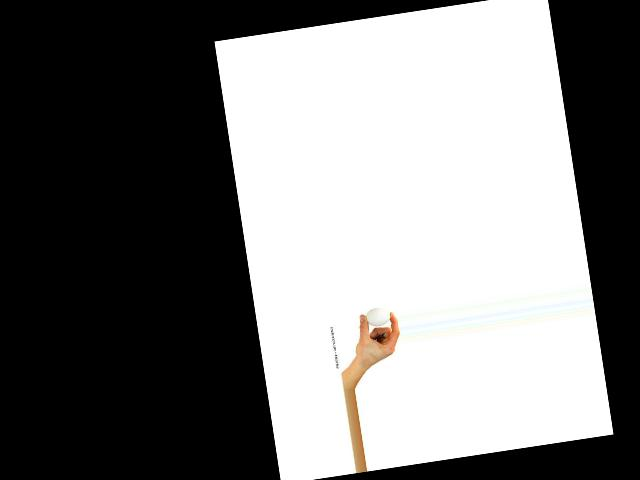egg: (364, 307, 391, 328)
